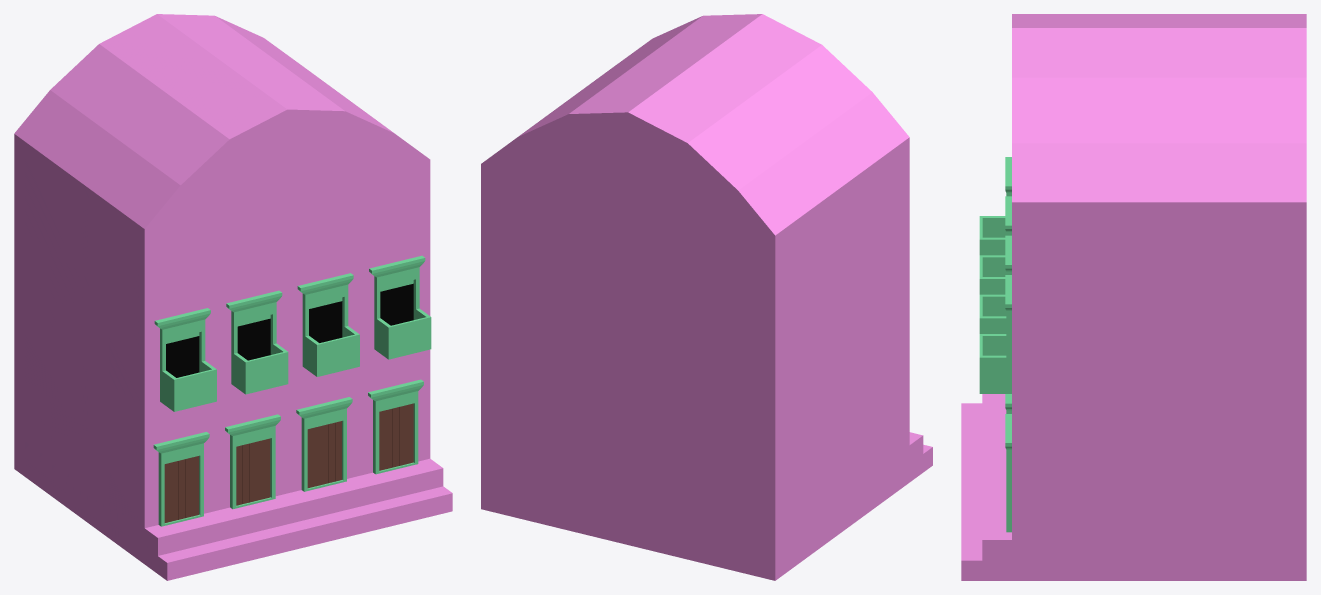
File: Hotel.fbx
3 renders of one model, left to right at view 1: azimuth 30°, elevation 25°; view 2: azimuth 150°, elevation 25°; view 3: azimuth 270°, elevation 25°, orthographic. The views are drawn at different scales.
Visible parts, largest first — view 1: Cube.004; view 2: Cube.004; view 3: Cube.004.
Part boxes in pixels (x1,y1,x2,y2): Cube.004: (14,14,452,580); Cube.004: (481,14,932,580); Cube.004: (961,14,1306,580).
Size of the model in its own units: 406 by 571 by 377.
